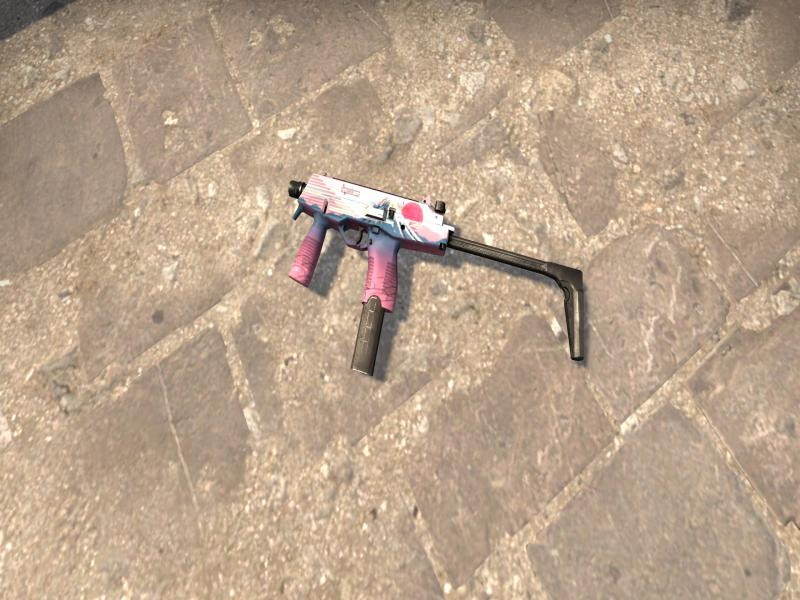MP9: (289, 173, 584, 373)
